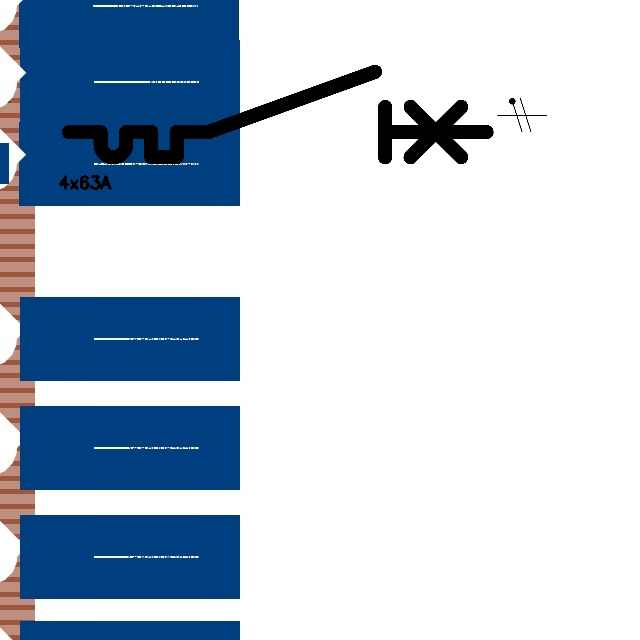interruptor_termomagnetico: (58, 61, 497, 168)
